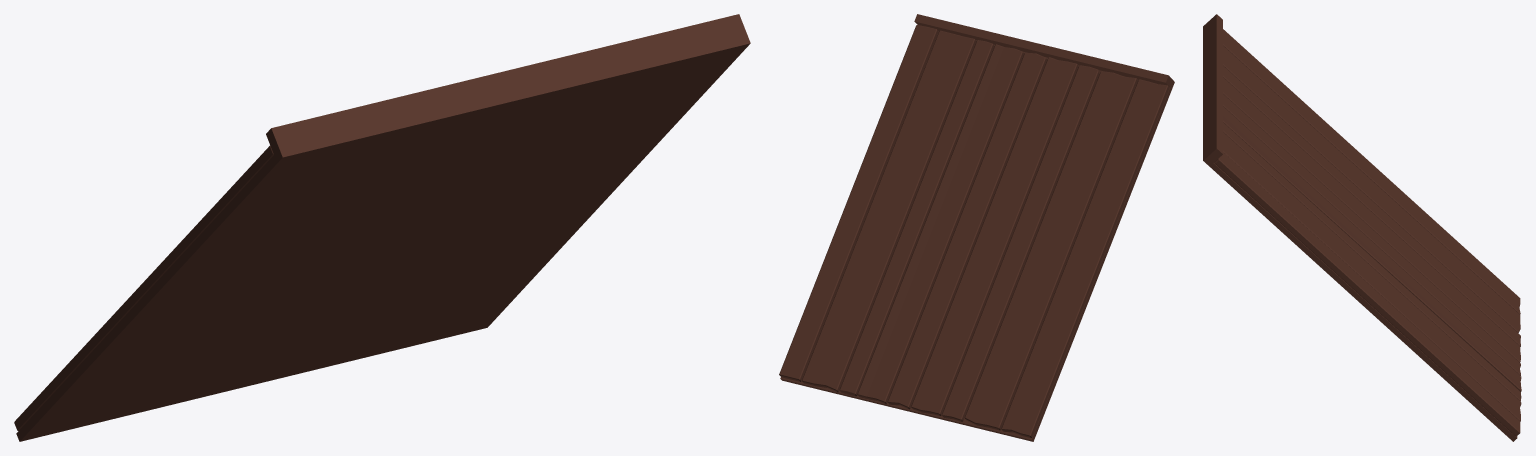
Rendered from roof-e.glb.
3 views of the same model, side by side, from view 1: azimuth 30°, elevation 25°; view 2: azimuth 150°, elevation 25°; view 3: azimuth 270°, elevation 25° (orthographic). The views are drawn at different scales.
Visible parts, largest first — view 1: Roof E; view 2: Roof E; view 3: Roof E.
Boxes of the visible parts, left/top/right/bottom form: Roof E: left=14, top=14, right=750, bottom=441; Roof E: left=779, top=14, right=1174, bottom=441; Roof E: left=1203, top=14, right=1521, bottom=441.
Size of the model in its own units: 3.42 by 3.48 by 3.42.
